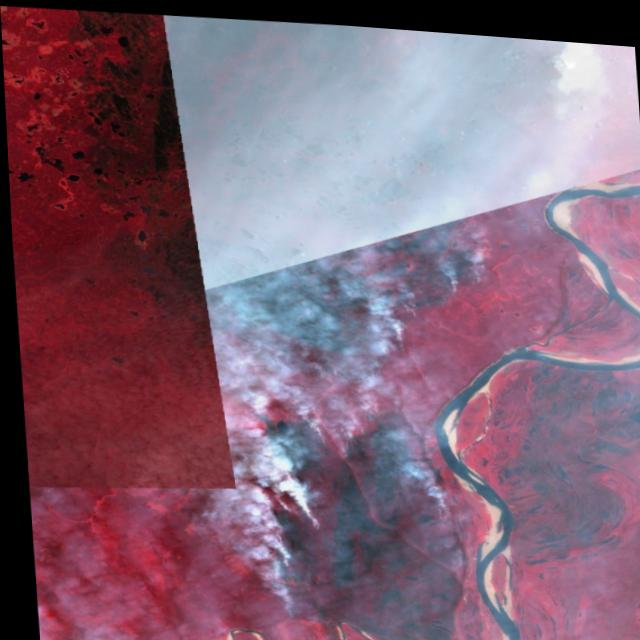fire: (235, 388, 451, 620), (220, 214, 494, 387), (525, 31, 572, 52)
